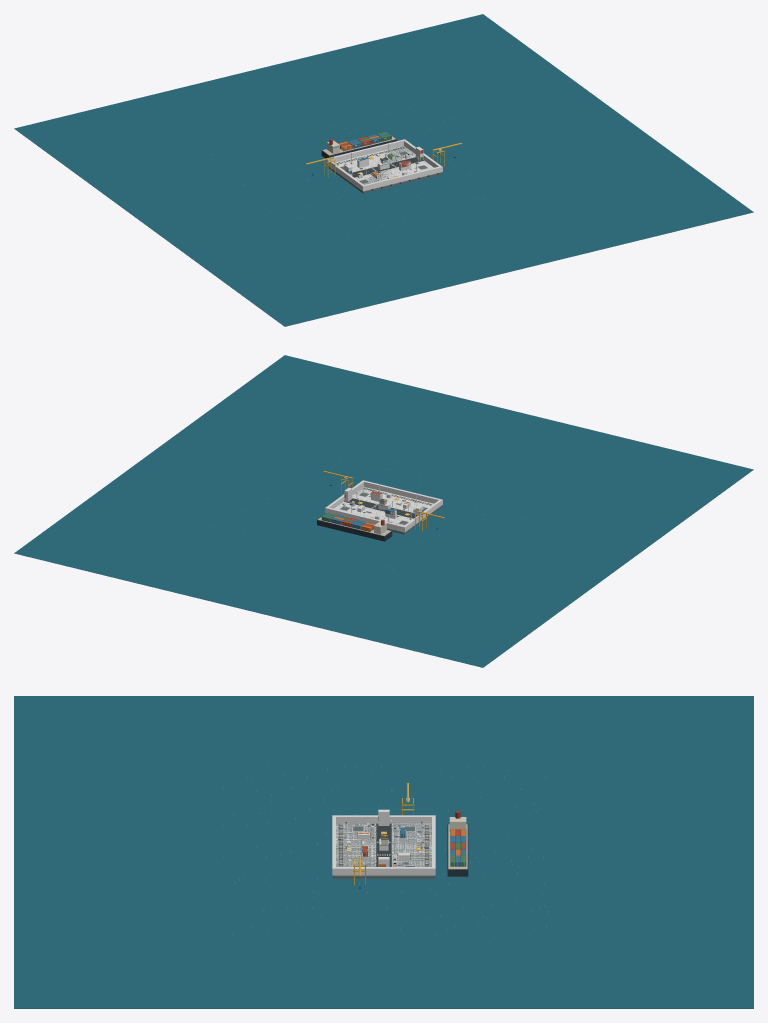
Rendered from Harbor.fbx.
3 views of the same model, one above another, from view 1: azimuth 30°, elevation 25°; view 2: azimuth 150°, elevation 25°; view 3: azimuth 270°, elevation 25° (orthographic). The views are drawn at different scales.
Parts seen in each view (by area): view 1: ART_HB_Water_2A6F80, COL_Ground.001, COL_WallS.001; view 2: ART_HB_Water_2A6F80, COL_Ground.001; view 3: ART_HB_Water_2A6F80, ART_HB_Concrete_8E999B, COL_Ground.001, COL_WallE.001, COL_WallW.001, ART_HB_ConcreteDark_6B777A.
Boxes of the visible parts, x1,y1,x2,y2 form: ART_HB_Water_2A6F80: [14, 14, 753, 326]; COL_Ground.001: [334, 146, 433, 184]; COL_WallS.001: [364, 166, 440, 190]; ART_HB_Water_2A6F80: [14, 355, 753, 667]; COL_Ground.001: [334, 487, 433, 525]; ART_HB_Water_2A6F80: [14, 696, 753, 1008]; ART_HB_Concrete_8E999B: [336, 823, 431, 866]; COL_Ground.001: [336, 823, 431, 866]; COL_WallE.001: [332, 867, 435, 875]; COL_WallW.001: [332, 815, 435, 823]; ART_HB_ConcreteDark_6B777A: [333, 824, 434, 878].
Bounding box in the file's own units: 400 × 15.4 × 400.
